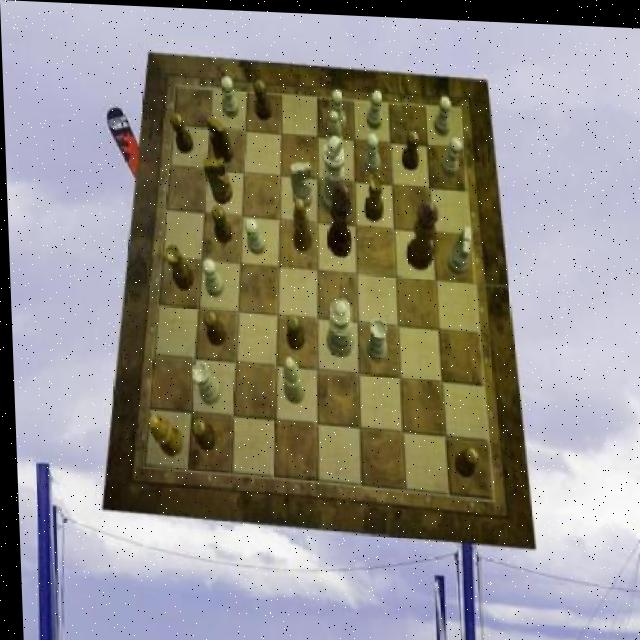bishop: (143, 414, 179, 457), (288, 196, 310, 251)
black-bishop: (324, 179, 353, 254)
black-king: (205, 113, 232, 162), (202, 156, 230, 203)
black-knight: (168, 112, 192, 153), (200, 308, 224, 345), (451, 443, 477, 475), (188, 417, 213, 450), (209, 204, 230, 243), (252, 78, 271, 118), (400, 128, 418, 168), (284, 311, 302, 348)
black-pawn: (402, 195, 438, 268)
black-queen: (162, 242, 191, 289), (362, 171, 383, 219)
black-rook: (323, 106, 345, 169), (280, 355, 302, 402)
white-bishop: (317, 131, 346, 214)
white-king: (445, 222, 471, 272), (288, 159, 310, 207)
white-knight: (438, 132, 460, 174), (200, 257, 222, 297), (432, 92, 451, 133), (327, 87, 345, 130), (219, 74, 237, 116), (243, 218, 264, 253), (364, 87, 382, 127), (363, 129, 380, 171)
white-pawn: (322, 296, 351, 355)
white-queen: (189, 360, 218, 403), (363, 315, 386, 360)
